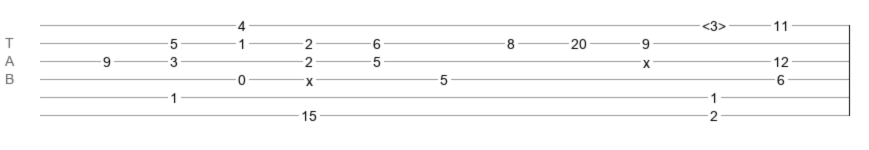0: (238, 72, 246, 82)
1: (170, 90, 178, 100), (238, 36, 246, 46), (710, 90, 718, 100)
11: (773, 18, 789, 28)
12: (773, 54, 789, 64)
15: (301, 108, 317, 118)
2: (305, 36, 313, 46), (305, 54, 313, 64), (710, 108, 718, 118)
20: (571, 36, 587, 46)
3: (170, 54, 178, 64)
4: (238, 18, 246, 28)
5: (170, 36, 178, 46), (373, 54, 381, 64), (440, 72, 448, 82)
6: (373, 36, 381, 46), (777, 72, 785, 82)
8: (507, 36, 515, 46)
9: (103, 54, 111, 64), (642, 36, 650, 46)
harmonic: (702, 18, 726, 28)
x: (306, 73, 313, 81), (643, 55, 650, 63)
